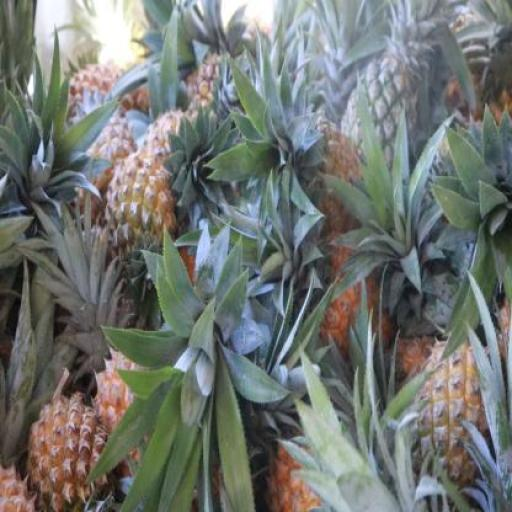------------------------------: (406, 342, 489, 494), (106, 148, 173, 282)
Pineapple - v8 v1: (28, 394, 106, 512)
